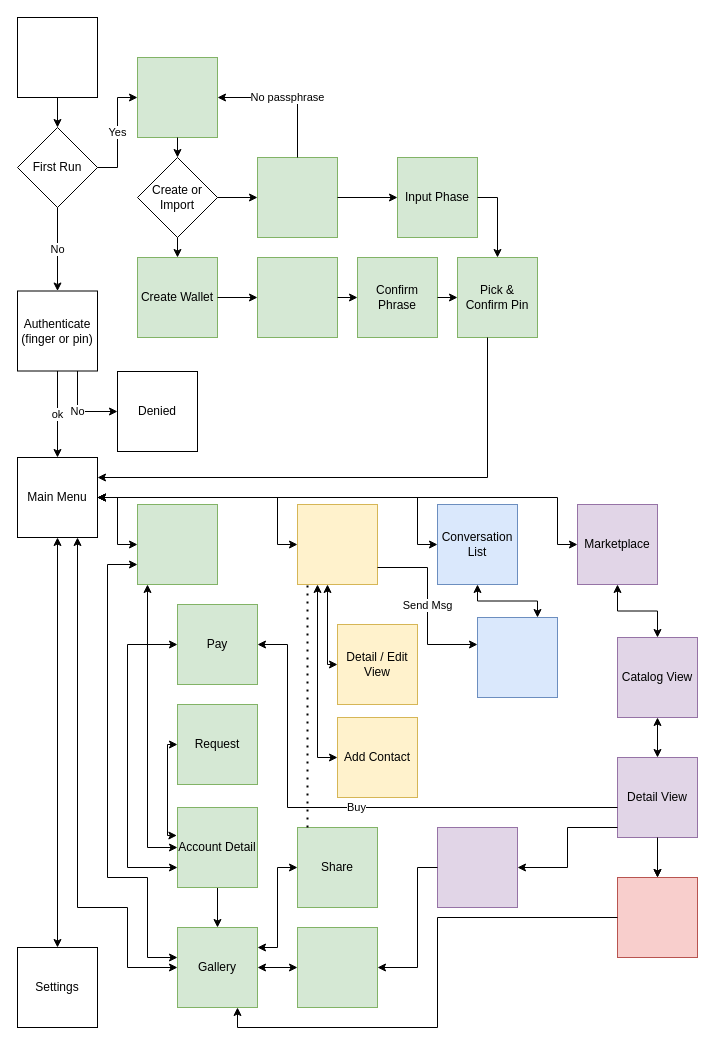
The diagram is 715 pixels wide and 1053 high, and some of its shapes have lost their labels. Here are the shapes that lost their labels. From the top down, the centre of each, then its label:
point (57, 57): Splash
point (177, 97): Create Wallet or Import
point (297, 197): Import Wallet
point (297, 297): Generate Phrase
point (177, 544): Wallet
point (337, 544): Contacts
point (517, 657): Conversation
point (477, 867): Purchase Process
point (657, 917): Service or Assertion Process
point (337, 967): For Sale
